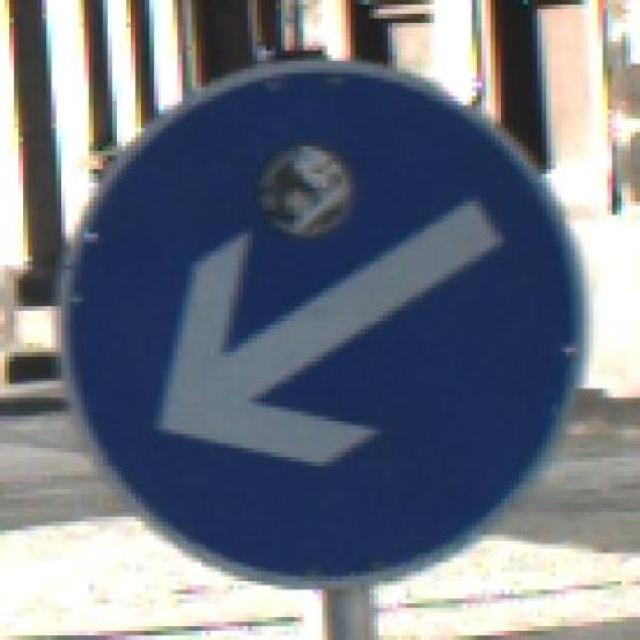Keep-Left: (46, 46, 603, 600)
